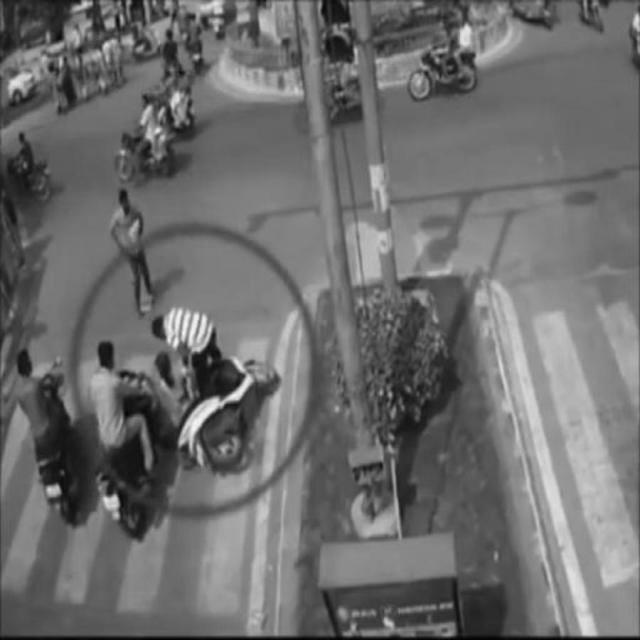accident: (80, 311, 275, 522)
person: (109, 191, 156, 311)
vehicle: (13, 344, 71, 518), (407, 16, 477, 99), (112, 93, 174, 181)
